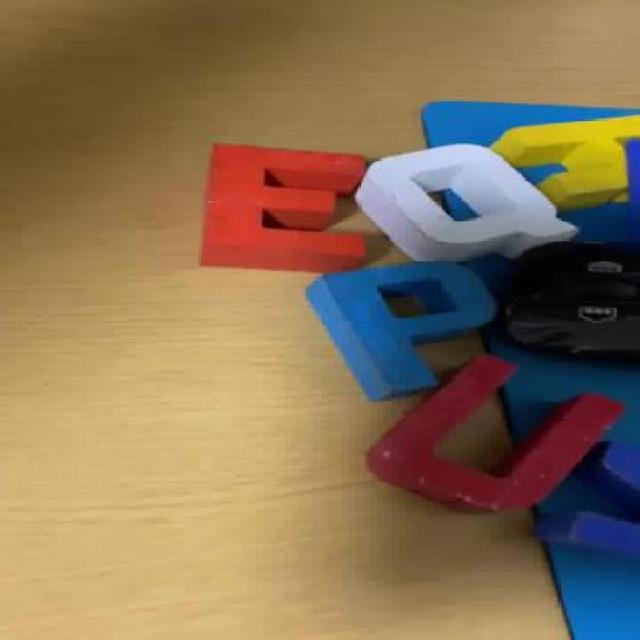E: (186, 142, 397, 282)
P: (298, 256, 484, 406)
Q: (366, 142, 574, 269)
U: (381, 372, 624, 518)
